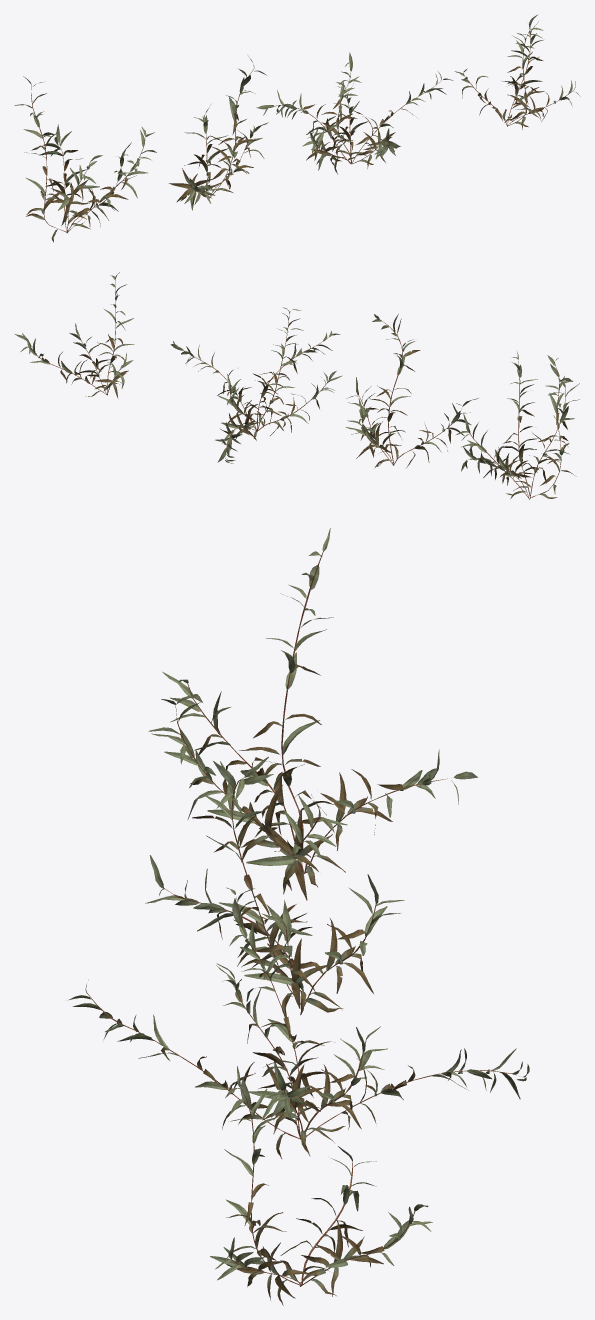
File: shrub_02.glb
3 views of the same model, one above another, from view 1: azimuth 30°, elevation 25°; view 2: azimuth 150°, elevation 25°; view 3: azimuth 270°, elevation 25° (orthographic). The views are drawn at different scales.
Parts seen in each view (by area): view 1: shrub_02_a, shrub_02_c, shrub_02_b, shrub_02_d; view 2: shrub_02_a, shrub_02_c, shrub_02_b, shrub_02_d; view 3: shrub_02_a, shrub_02_c, shrub_02_b, shrub_02_d.
Boxes of the visible parts, x1,y1,x2,y2 form: shrub_02_a: (14,76,156,242); shrub_02_c: (256,52,453,174); shrub_02_b: (169,56,268,210); shrub_02_d: (454,14,580,129); shrub_02_a: (455,352,579,499); shrub_02_c: (170,307,342,463); shrub_02_b: (345,314,478,468); shrub_02_d: (15,272,134,398); shrub_02_a: (148,528,477,900); shrub_02_c: (68,887,529,1158); shrub_02_b: (145,756,404,1017); shrub_02_d: (210,1066,432,1305).
Bounding box in the file's own units: 6.05 × 1.7 × 2.29.
1 material, 1 textured.
